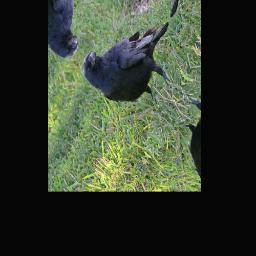Crow: (77, 0, 192, 134)
